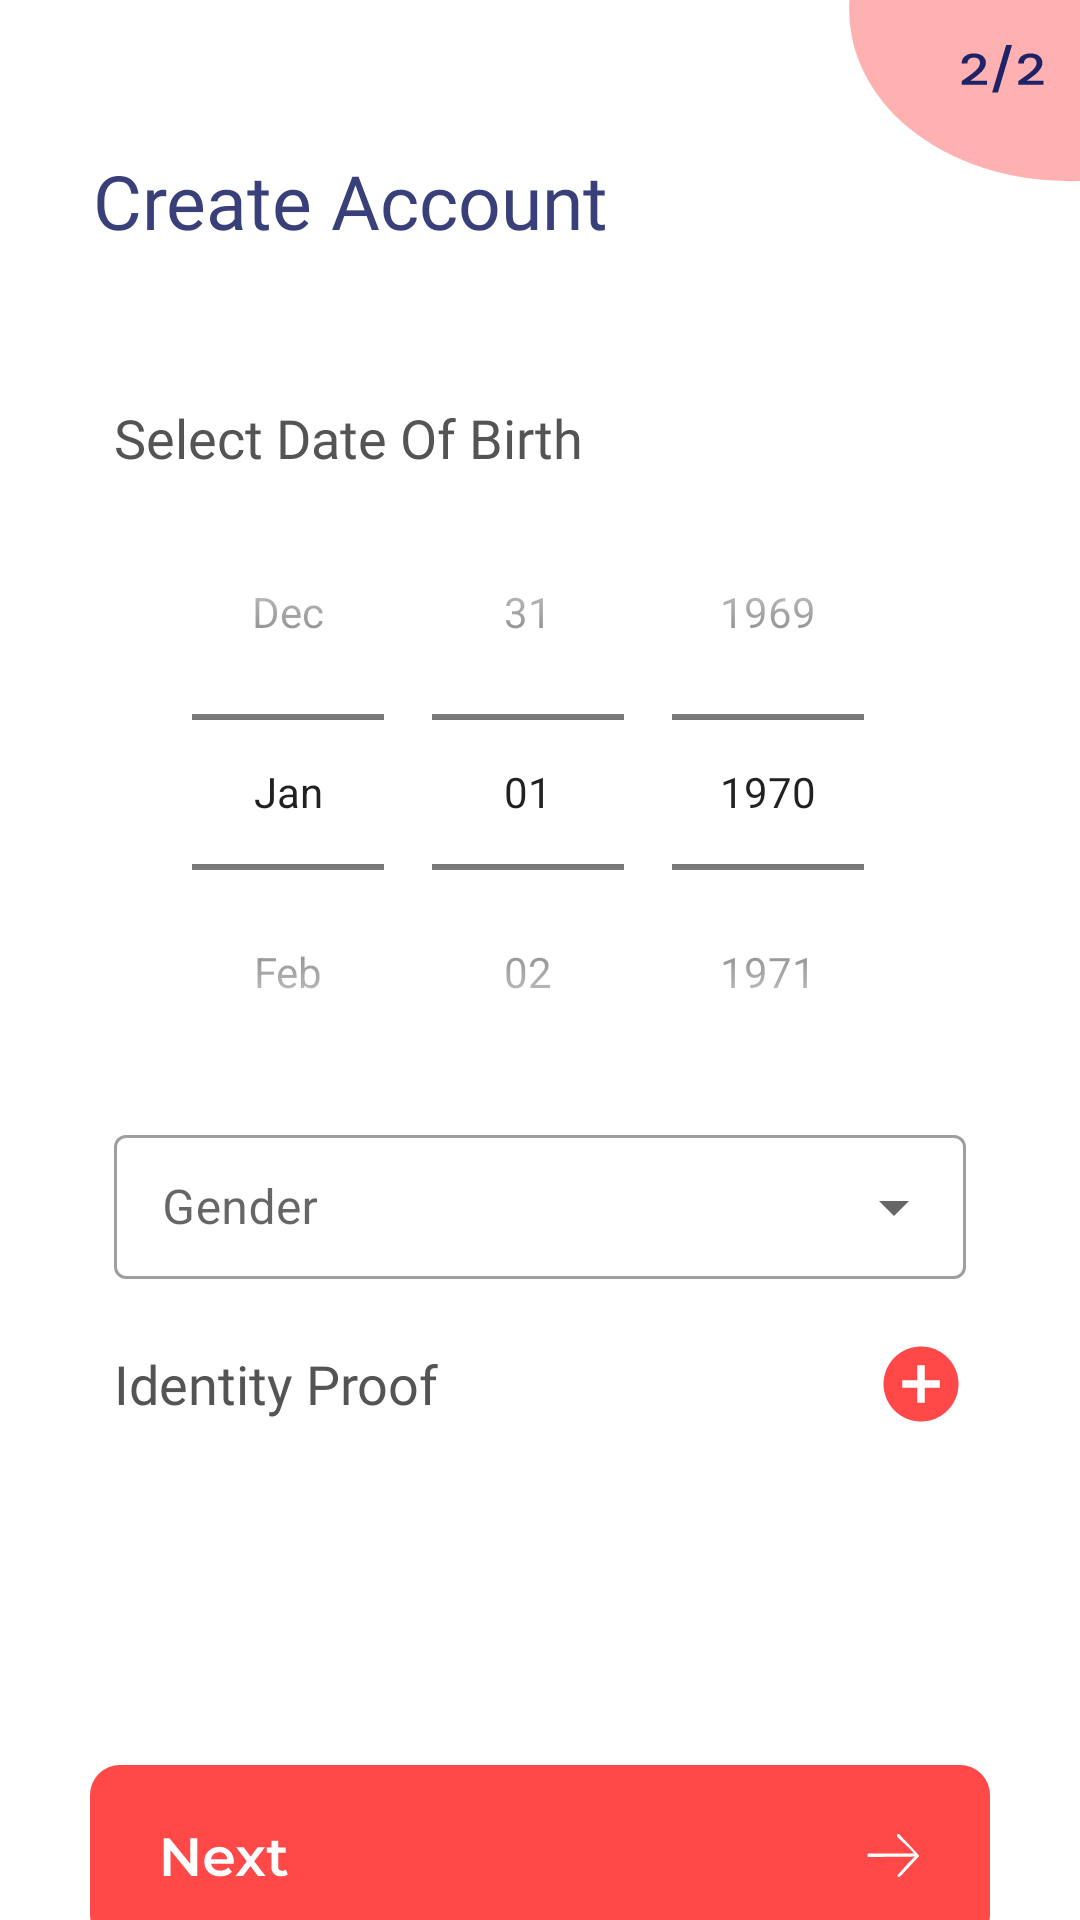

Icon bounding boxes for this 1080x1920 phone screenshot, format (x1, y1, x2, y2):
add circle: (883, 1346, 959, 1422)
